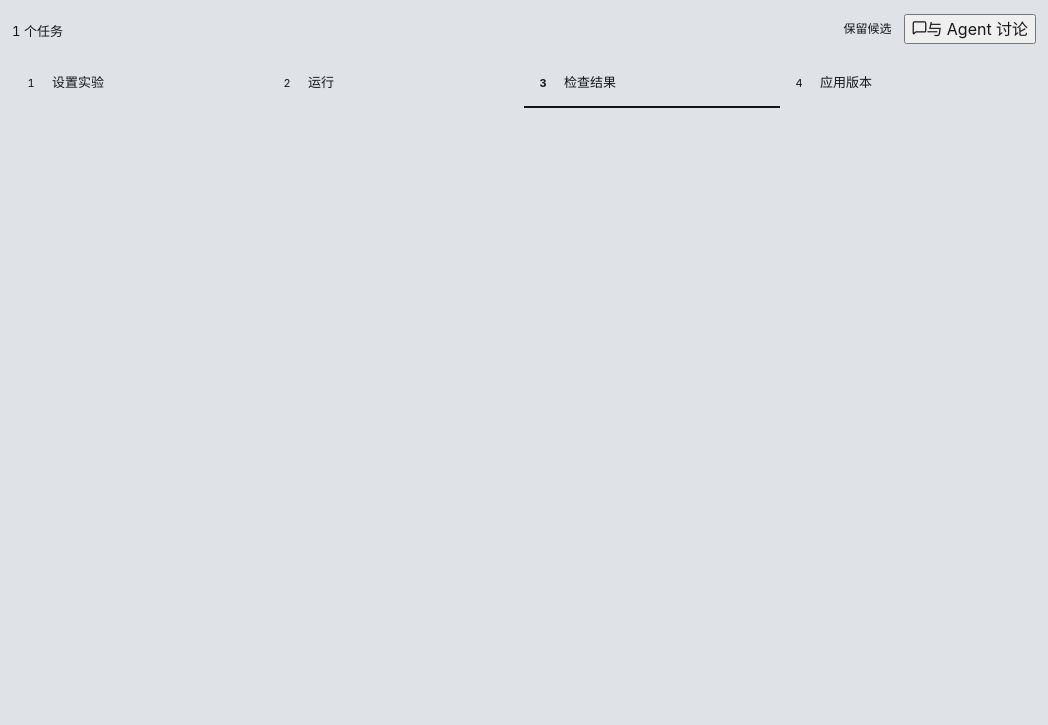
Test: experiment workspace › makes Model, Prompt, RAG, Tool, Skill and Workflow explicit optimization targets
Click the tab "1 设置实验" at x=140, y=84, box [12,60,268,108]
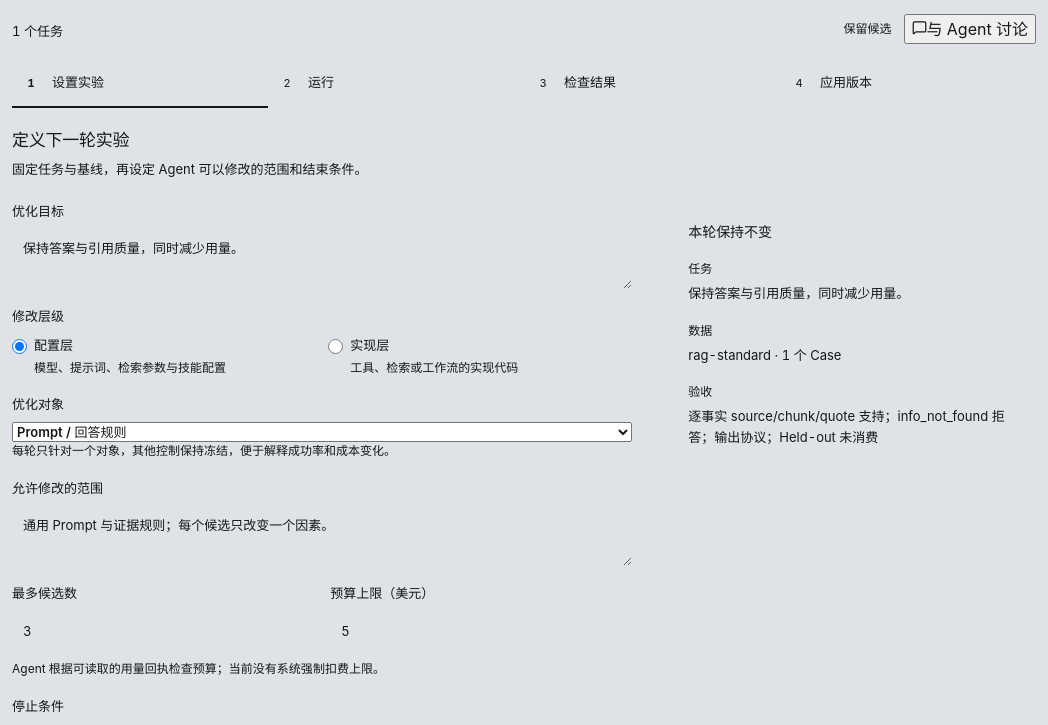
Now the dropdown labelled "优化对象" shows "Prompt / 回答规则"
Select "Skill / 技能加载" in the dropdown labelled "优化对象" at x=322, y=432, box [12,422,632,442]
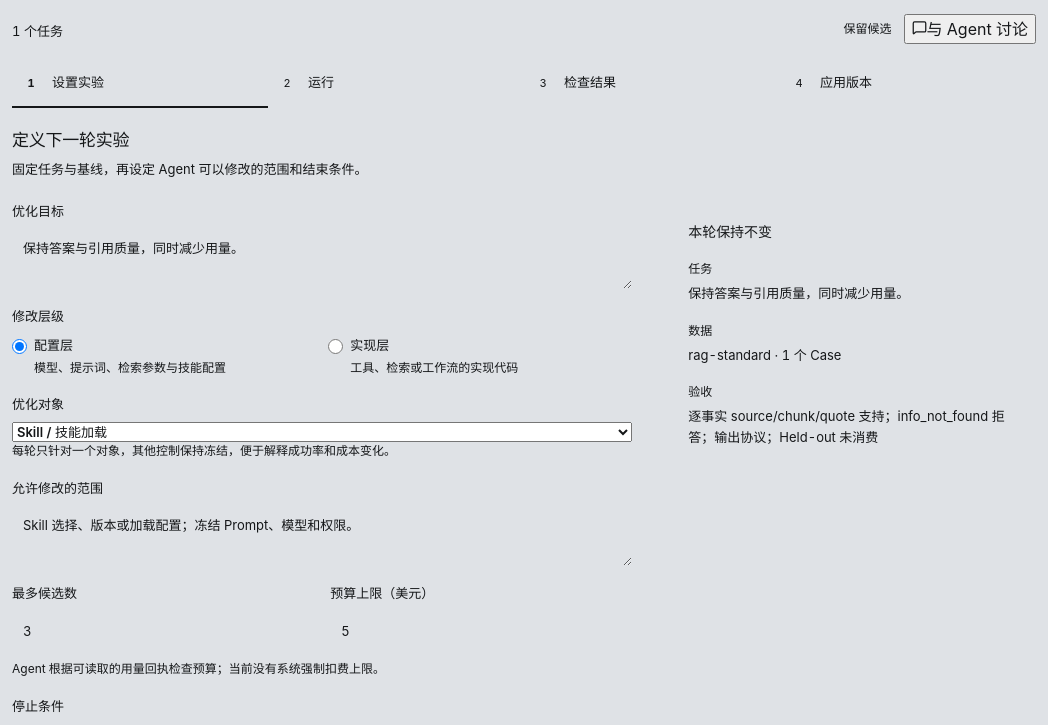
Now the text box labelled "允许修改的范围" holds "Skill 选择、版本或加载配置；冻结 Prompt、模型和权限。", box [12,506,632,566]
Click the radio button labelled "实现层 工具、检索或工作流的实现代码" at x=336, y=347, box [328,339,343,354]
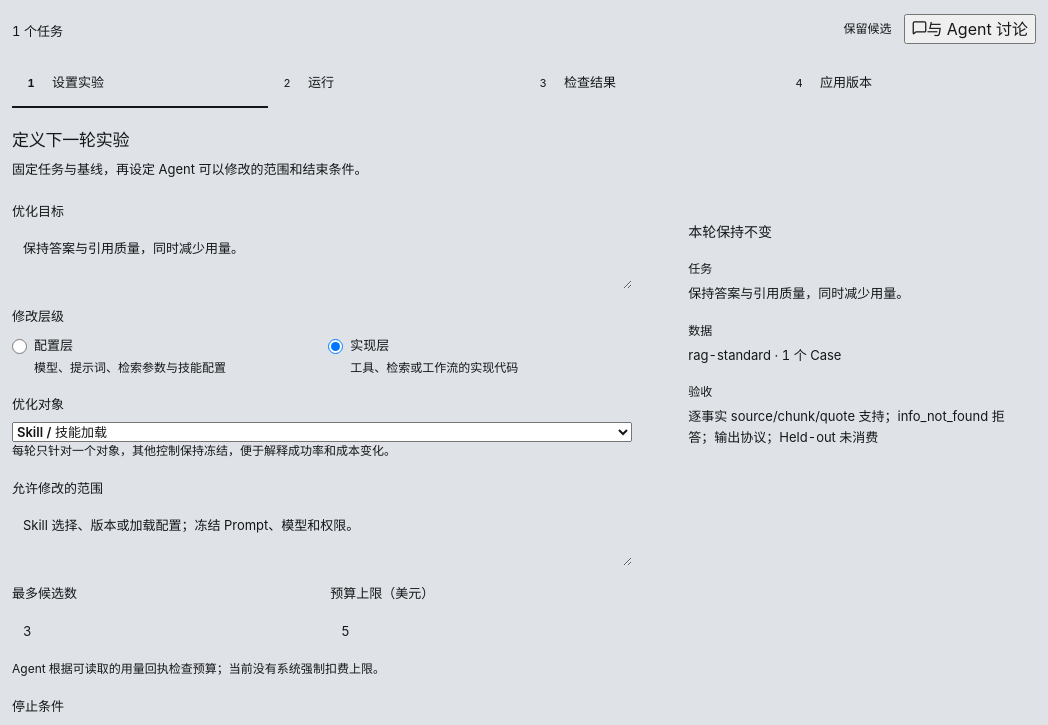
Select "Model / 模型与成本" in the dropdown labelled "优化对象" at x=322, y=432, box [12,422,632,442]
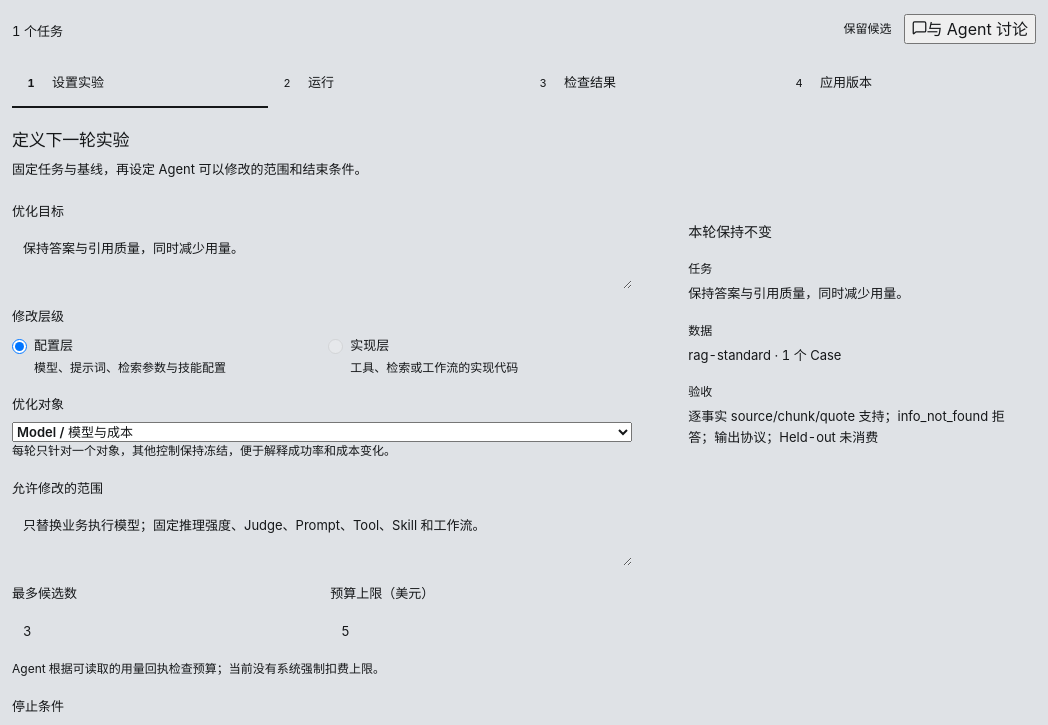
Now the radio button labelled "配置层 模型、提示词、检索参数与技能配置" is checked, box [12,339,27,354]
Now the text box labelled "允许修改的范围" holds "只替换业务执行模型；固定推理强度、Judge、Prompt、Tool、Skill 和工作流。", box [12,506,632,566]
